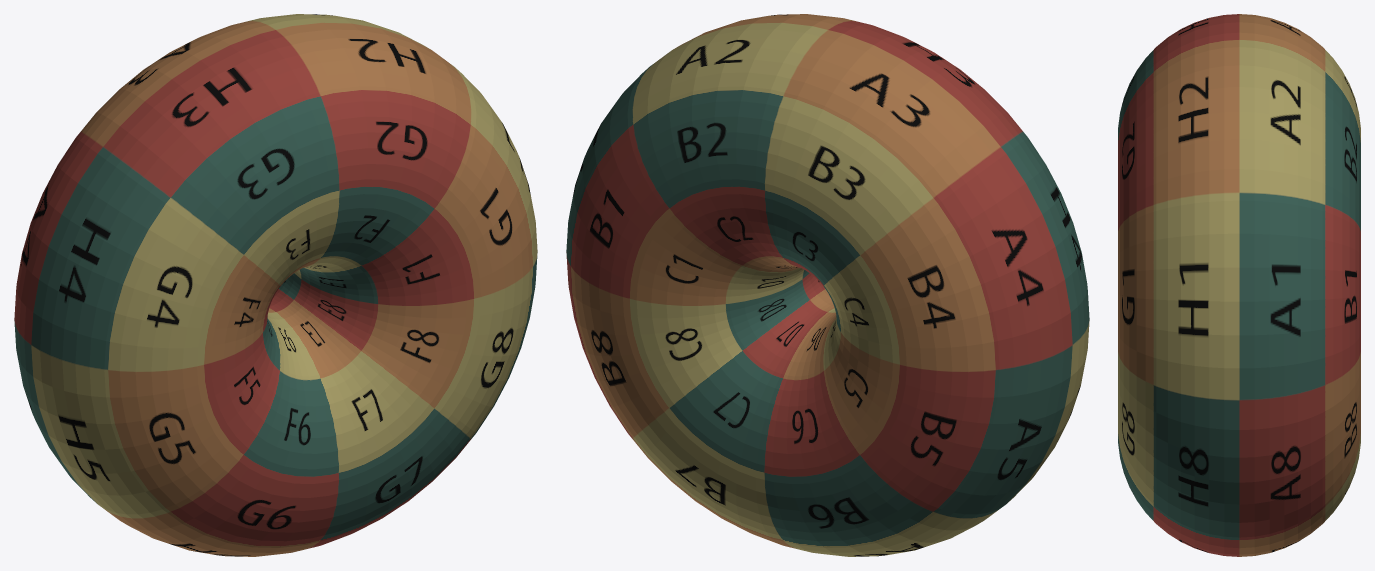
Rendered from texture_torus_R2_r27.glb.
3 renders of one model, left to right at view 1: azimuth 30°, elevation 25°; view 2: azimuth 150°, elevation 25°; view 3: azimuth 270°, elevation 25°, orthographic. The views are drawn at different scales.
Parts seen in each view (by area): view 1: world; view 2: world; view 3: world.
Boxes of the visible parts, box(x1,y1,x2,y2) form: world: box(14, 14, 537, 556); world: box(566, 14, 1089, 556); world: box(1118, 14, 1360, 556).
Size of the model in its own units: 20.53 by 20.49 by 9.18.
Materials: 1 (1 with a texture image).
